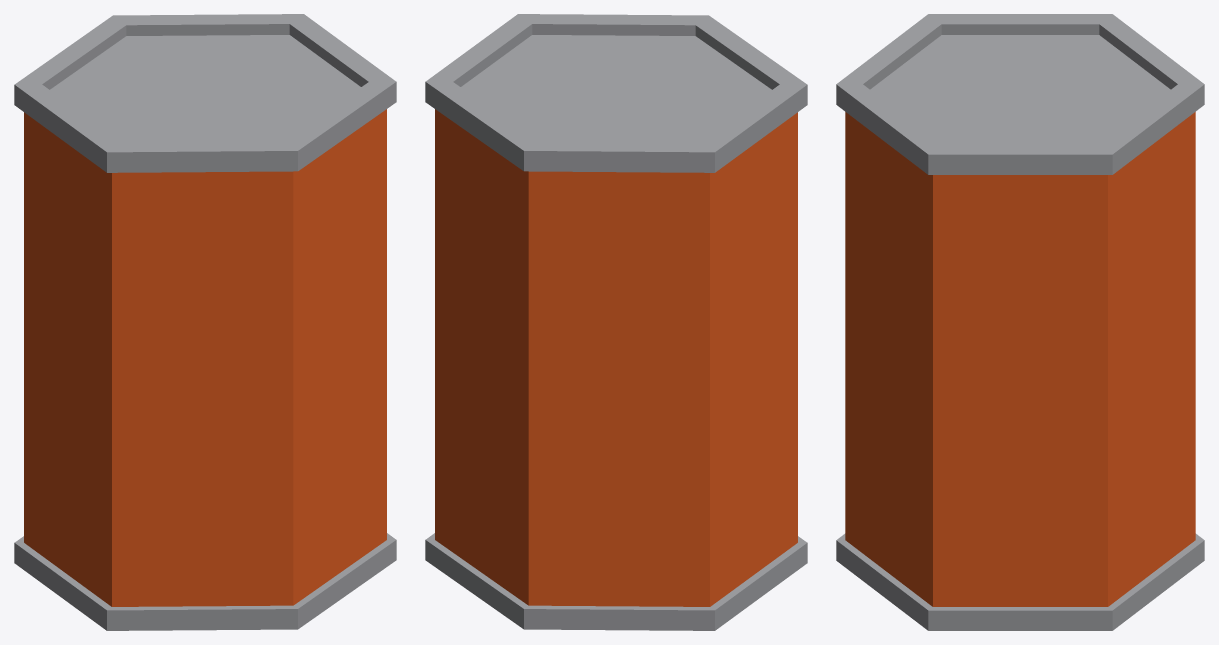
Rendered from Can.fbx.
3 views of the same model, side by side, from view 1: azimuth 30°, elevation 25°; view 2: azimuth 150°, elevation 25°; view 3: azimuth 270°, elevation 25° (orthographic).
Visible parts, largest first — view 1: Can; view 2: Can; view 3: Can.
Part boxes in pixels (bbox=[...]): Can: bbox=[14, 14, 396, 630]; Can: bbox=[425, 14, 807, 630]; Can: bbox=[836, 14, 1204, 630].
Size of the model in its own units: 9.5 by 15.01 by 10.52.
